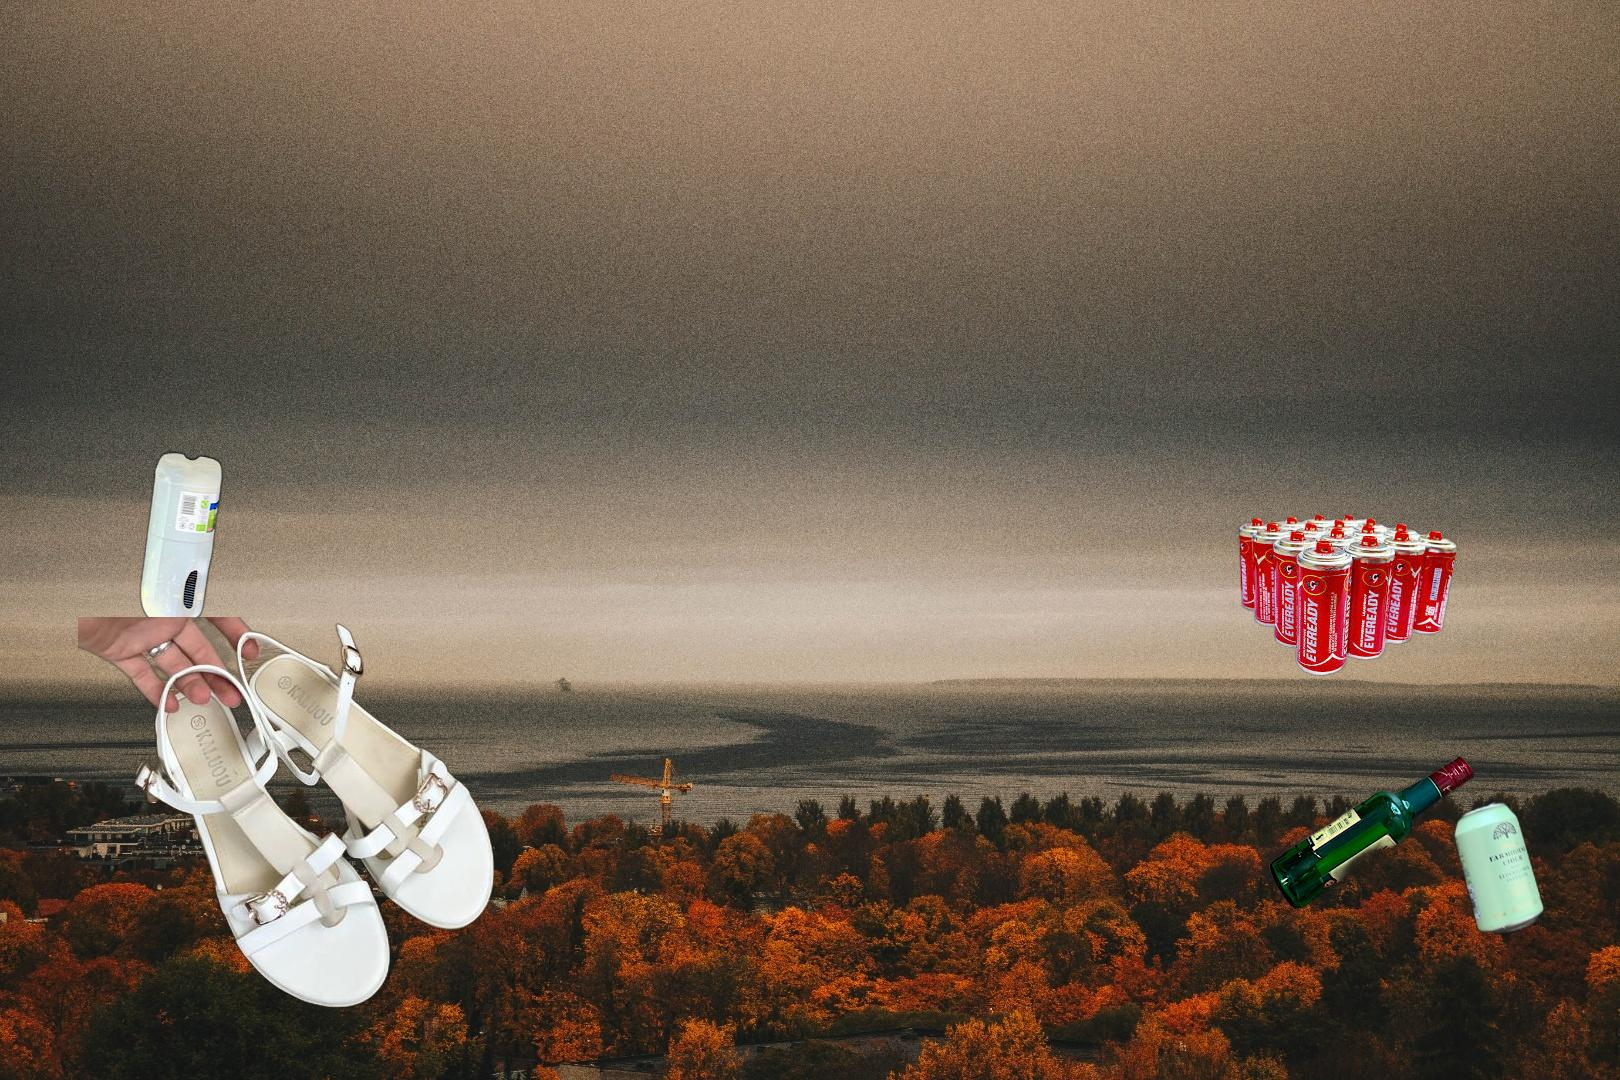battery: (1235, 511, 1460, 677)
clothes: (78, 617, 498, 1011)
glass: (1264, 750, 1479, 915)
metal-cans: (1450, 797, 1549, 940)
plastic-bottles: (136, 447, 225, 644)
